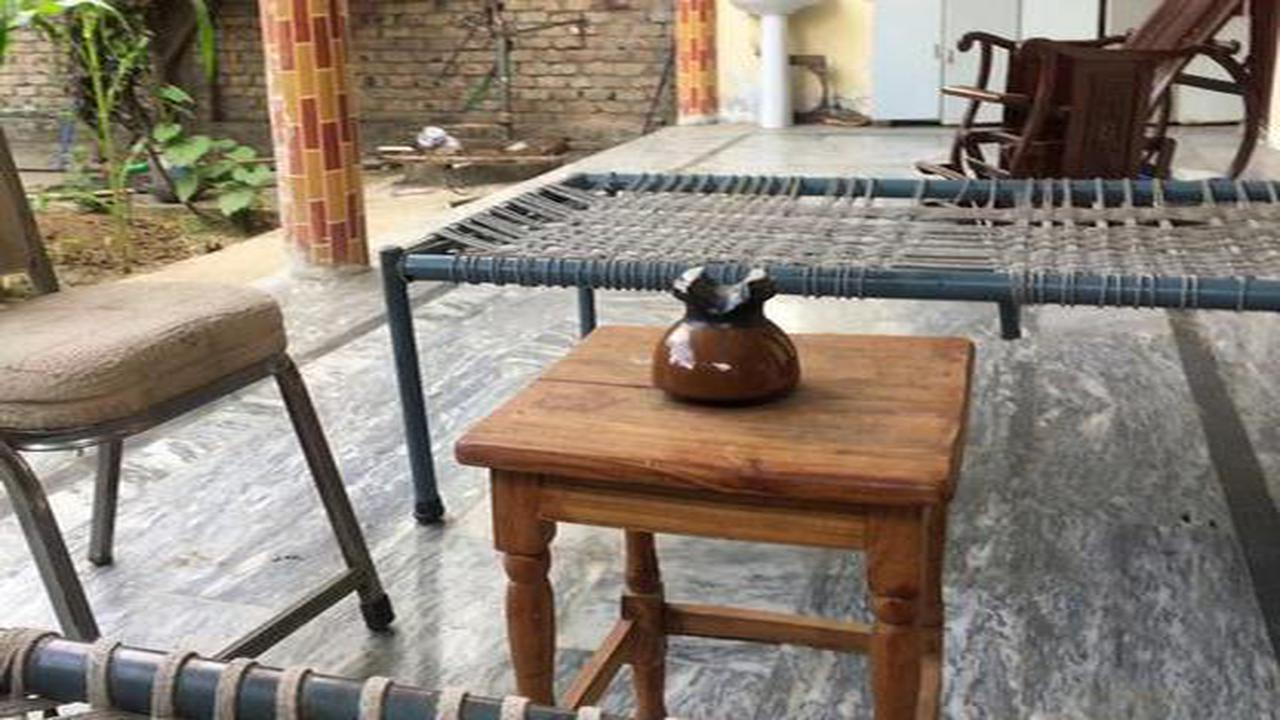insulator_pin: (628, 251, 822, 416)
